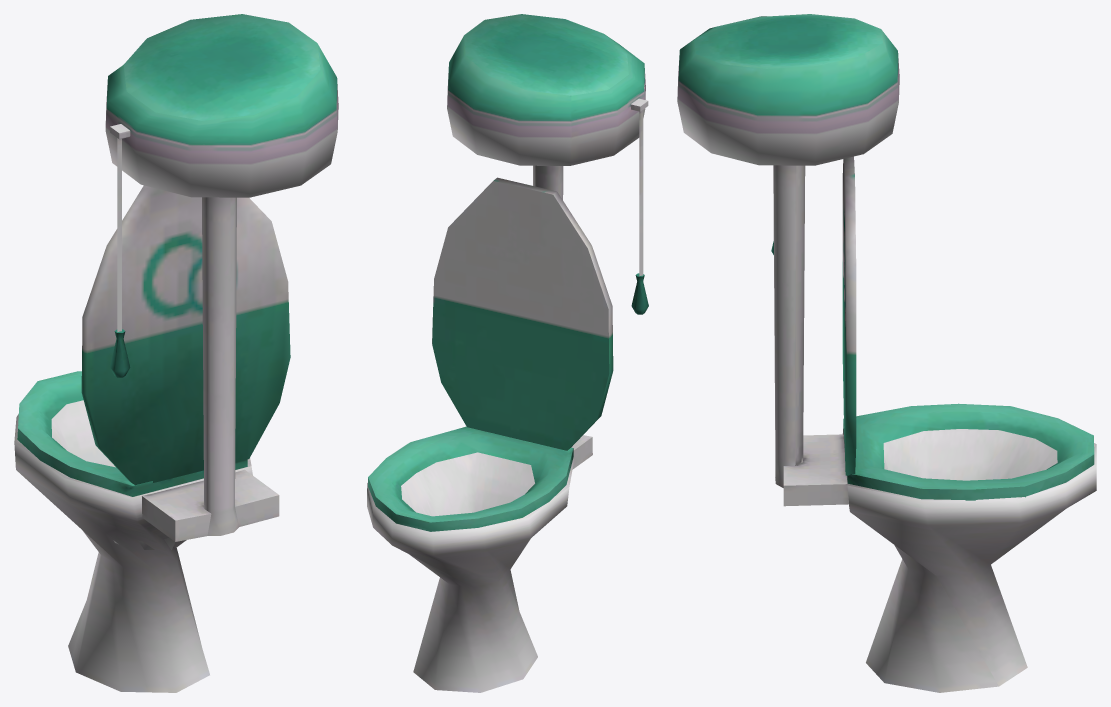
Rendered from furni_0200527_02.FBX.
3 renders of one model, left to right at view 1: azimuth 30°, elevation 25°; view 2: azimuth 150°, elevation 25°; view 3: azimuth 270°, elevation 25°, orthographic. The views are drawn at different scales.
Visible parts, largest first — view 1: furni_0200527_02; view 2: furni_0200527_02; view 3: furni_0200527_02.
Boxes of the visible parts, bbox=[...] form: furni_0200527_02: bbox=[14, 14, 338, 692]; furni_0200527_02: bbox=[367, 14, 648, 692]; furni_0200527_02: bbox=[677, 14, 1096, 692].
Bounding box in the file's own units: 42.42 × 126 × 75.26.
Materials: 1 (1 with a texture image).
